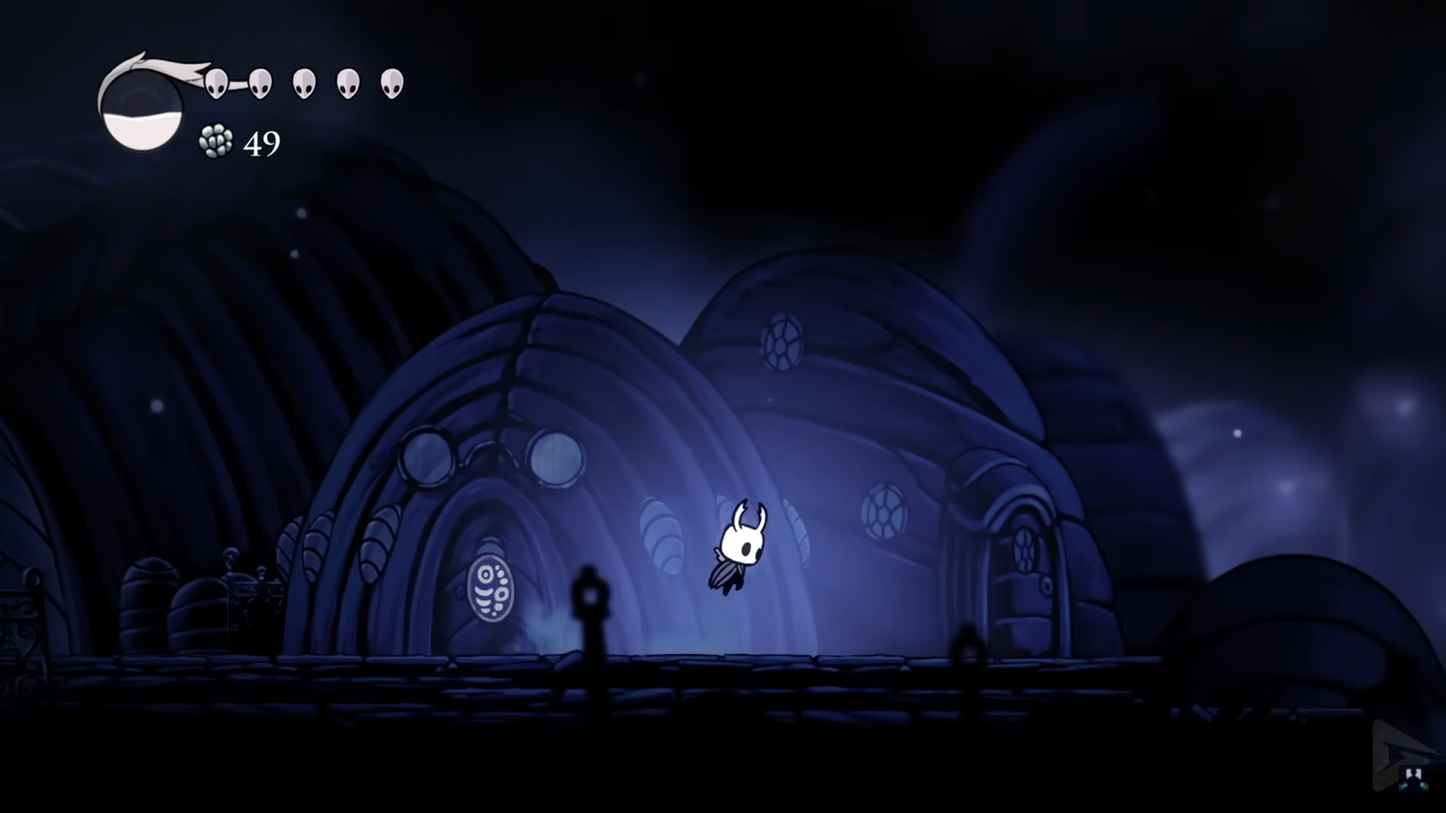HK: (706, 495, 770, 601)
